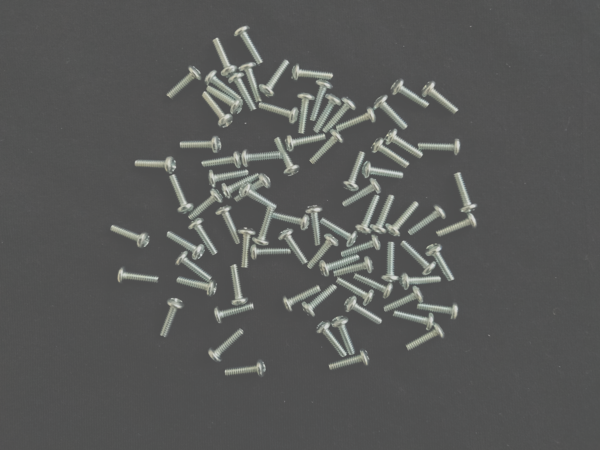shortscrew: (373, 94, 411, 131), (321, 96, 358, 134), (400, 241, 437, 277), (234, 25, 265, 67), (422, 80, 459, 115), (371, 137, 410, 170), (260, 58, 292, 98), (384, 129, 424, 161), (166, 65, 202, 100), (309, 129, 344, 165), (207, 330, 244, 364), (408, 204, 448, 235), (343, 177, 383, 208), (301, 285, 337, 319), (205, 70, 242, 103), (314, 92, 343, 134), (315, 320, 347, 358), (390, 79, 430, 109), (385, 202, 419, 237), (228, 71, 257, 112), (201, 92, 233, 129), (320, 217, 358, 248), (166, 231, 205, 261), (336, 106, 379, 133), (426, 244, 456, 282), (188, 218, 218, 256), (279, 228, 309, 266), (233, 174, 272, 203), (406, 324, 446, 352), (336, 278, 376, 306), (206, 87, 243, 117), (109, 224, 151, 250), (239, 183, 278, 211), (176, 251, 212, 281), (220, 175, 263, 200), (345, 297, 383, 325), (355, 194, 380, 236), (159, 298, 184, 340), (274, 137, 300, 177), (169, 175, 195, 215), (212, 37, 238, 77), (341, 151, 366, 192), (454, 172, 479, 213), (436, 214, 478, 238), (371, 195, 395, 237), (310, 78, 333, 121), (258, 102, 300, 125), (363, 160, 405, 183), (331, 316, 355, 356), (216, 205, 240, 245), (282, 286, 320, 311), (239, 62, 262, 103), (333, 256, 374, 279), (329, 350, 371, 372), (213, 303, 255, 325), (318, 255, 360, 277), (202, 149, 242, 171), (224, 359, 267, 379), (342, 237, 381, 259), (241, 148, 283, 168), (229, 264, 249, 306), (393, 311, 435, 331), (253, 208, 274, 248), (117, 266, 161, 285), (177, 277, 218, 297), (292, 63, 334, 82), (296, 92, 315, 134), (284, 133, 326, 152), (179, 136, 222, 154), (207, 170, 250, 188), (237, 228, 256, 268), (271, 212, 311, 231), (399, 273, 441, 291), (135, 157, 177, 175), (418, 302, 460, 320), (194, 190, 223, 216), (306, 205, 324, 245), (418, 139, 462, 155), (250, 245, 292, 260)
